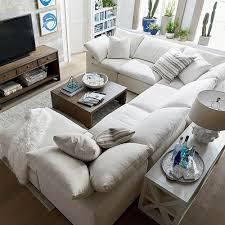TV: (0, 16, 35, 65)
console: (0, 46, 66, 106)
light: (189, 90, 225, 142)
sofa: (0, 29, 221, 225)
table: (127, 113, 225, 225), (50, 74, 127, 121)
